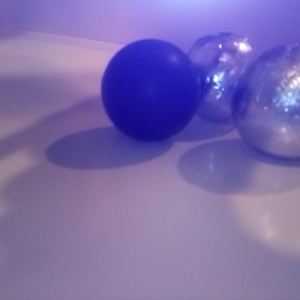alive_ball: (231, 44, 300, 160), (181, 32, 261, 122)
dead_ball: (100, 38, 200, 141)
